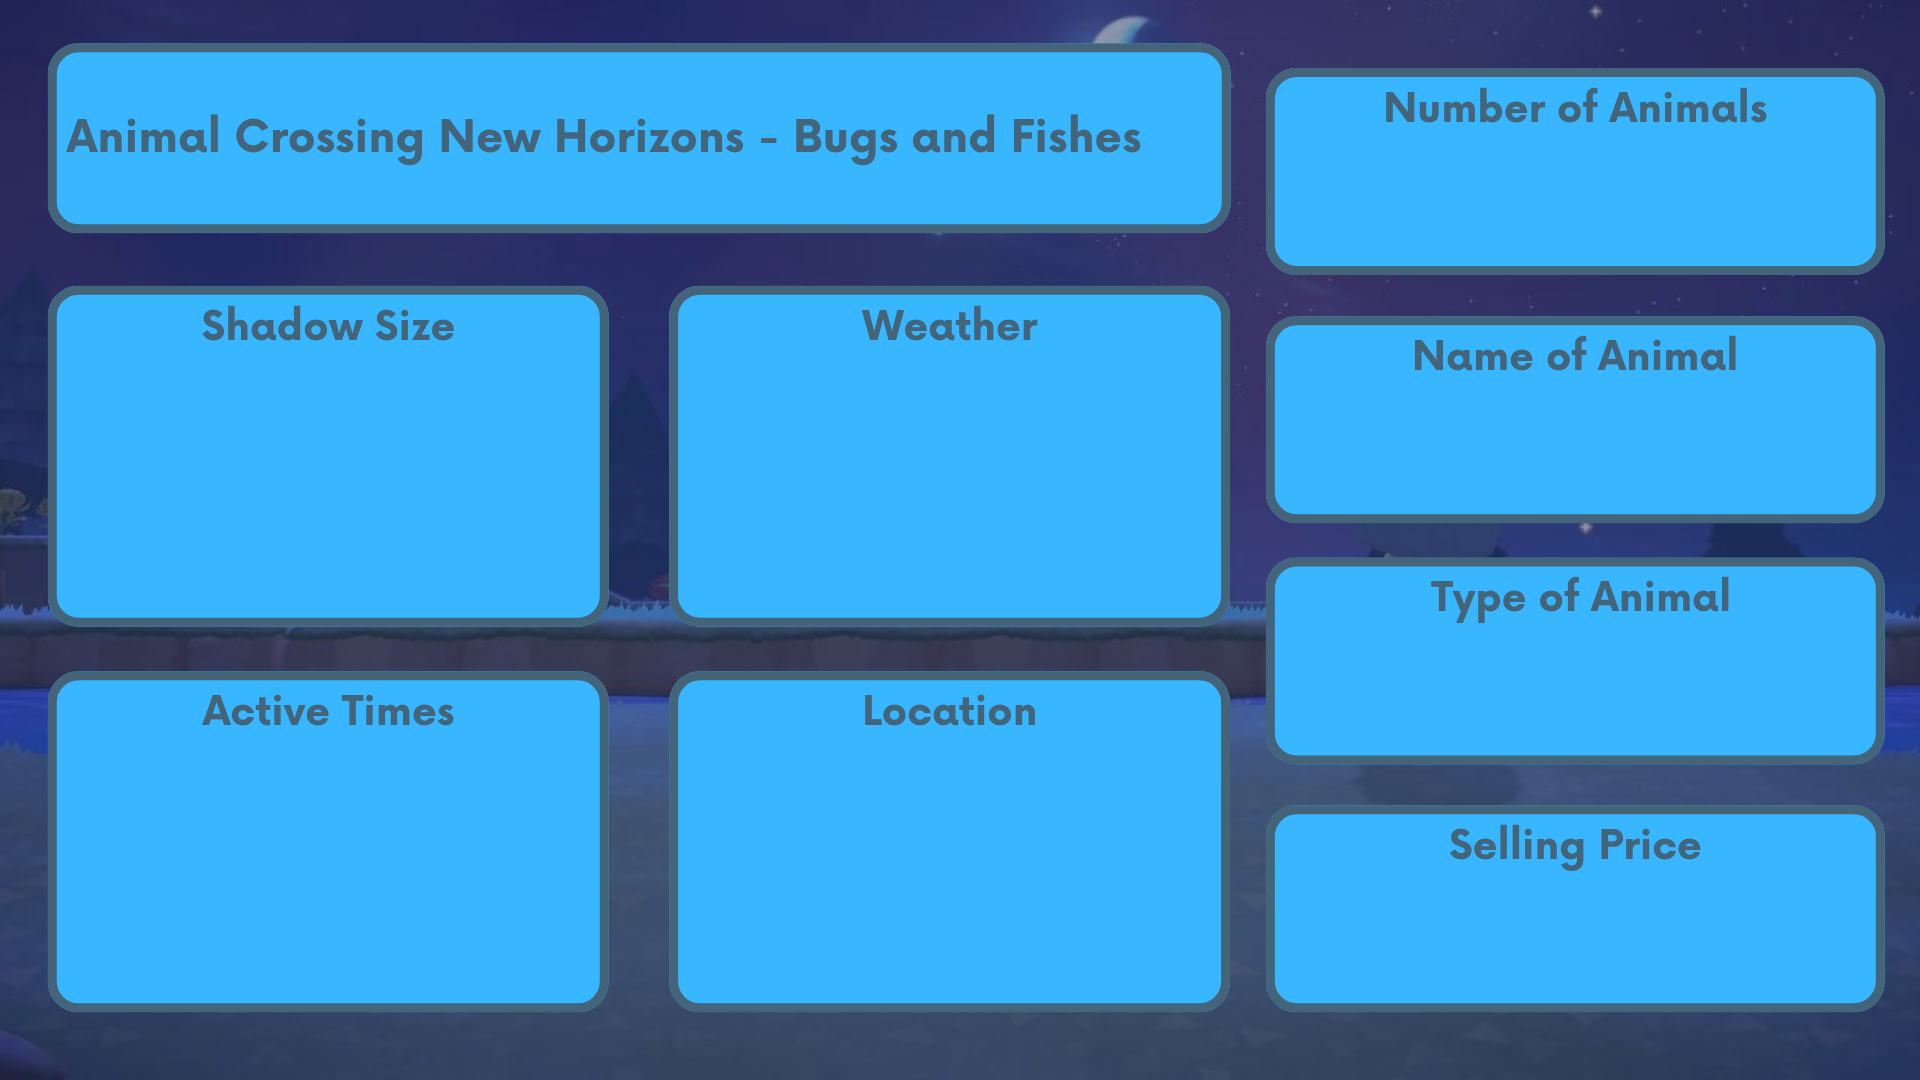

What the dashboard file says about the page in this screenshot:
{"tool":"powerbi","page":{"name":"Página 1","canvas":[1280,720],"ordinal":0},"visuals":[{"type":"card","fields":{"Values":["CountNonNull(db_acnh_fish_bugs.#)"]},"box":[906.5,68.1,280.1,108.9],"z":0},{"type":"slicer","fields":{"Values":["db_acnh_fish_bugs.Name"]},"box":[859.8,289.8,387.1,79.8],"z":1000},{"type":"treemap","fields":{"Group":["db_acnh_fish_bugs.Type"],"Values":["CountNonNull(db_acnh_fish_bugs.#)"]},"box":[859.8,413.4,387.1,88.5],"z":2000},{"type":"slicer","fields":{"Values":["db_acnh_fish_bugs.Sell price"]},"box":[859.8,614.7,387.1,79.8],"z":3000},{"type":"donutChart","fields":{"Category":["db_acnh_fish_bugs.Shadow size"],"Y":["CountNonNull(db_acnh_fish_bugs.#)"]},"box":[6.8,228.6,403.6,193.6],"z":4000},{"type":"clusteredColumnChart","fields":{"Category":["db_acnh_fish_bugs.Weather"],"Y":["CountNonNull(db_acnh_fish_bugs.#)"]},"box":[454.2,228.6,349.2,178],"z":5000},{"type":"card","fields":{"Values":["Min(db_acnh_fish_bugs.Location)"]},"box":[461,472.7,342.4,121.6],"z":6000},{"type":"card","fields":{"Values":["Min(db_acnh_fish_bugs.Name)"]},"box":[859.8,255.8,387.1,39.9],"z":7001},{"type":"card","fields":{"Values":["Min(db_acnh_fish_bugs.Sell price)"]},"box":[853,563.2,387.1,79.8],"z":7002},{"type":"slicer","fields":{"Values":["db_acnh_fish_bugs.Location"]},"box":[461,583.6,342.4,59.3],"z":7003},{"type":"slicer","fields":{"Values":["db_acnh_fish_bugs.Time"]},"box":[46,585.8,342.4,59.3],"z":7004},{"type":"card","fields":{"Values":["Min(db_acnh_fish_bugs.Time)"]},"box":[46,474.9,342.4,121.6],"z":7005}]}

Visuals, with their boxes in screenshot pixels (x1, y1, x2, y2), scaled from the page's 1280x720 canvas onto the 1920x1080 screenshot:
card - CountNonNull(db_acnh_fish_bugs.#): (1360,102,1780,266)
slicer - db_acnh_fish_bugs.Name: (1290,435,1870,554)
treemap - db_acnh_fish_bugs.Type x CountNonNull(db_acnh_fish_bugs.#): (1290,620,1870,753)
slicer - db_acnh_fish_bugs.Sell price: (1290,922,1870,1042)
donutChart - db_acnh_fish_bugs.Shadow size x CountNonNull(db_acnh_fish_bugs.#): (10,343,616,633)
clusteredColumnChart - db_acnh_fish_bugs.Weather x CountNonNull(db_acnh_fish_bugs.#): (681,343,1205,610)
card - Min(db_acnh_fish_bugs.Location): (692,709,1205,891)
card - Min(db_acnh_fish_bugs.Name): (1290,384,1870,444)
card - Min(db_acnh_fish_bugs.Sell price): (1280,845,1860,964)
slicer - db_acnh_fish_bugs.Location: (692,875,1205,964)
slicer - db_acnh_fish_bugs.Time: (69,879,583,968)
card - Min(db_acnh_fish_bugs.Time): (69,712,583,895)
